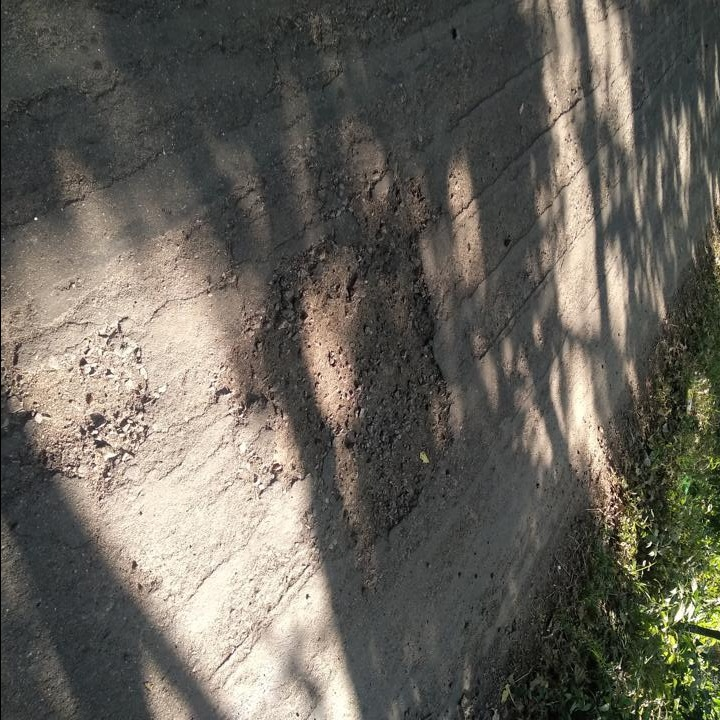pothole: (217, 181, 452, 552), (1, 323, 152, 489)
